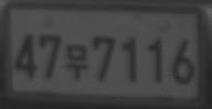1: (117, 36, 145, 83), (145, 39, 171, 83)
4: (13, 34, 38, 79)
6: (170, 39, 195, 85)
7: (91, 36, 117, 81), (38, 34, 62, 79)
무: (62, 43, 89, 80)
